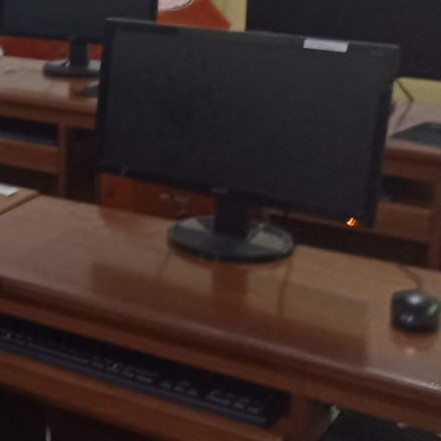monitor: (93, 17, 399, 261), (245, 0, 440, 81), (0, 0, 158, 44)
